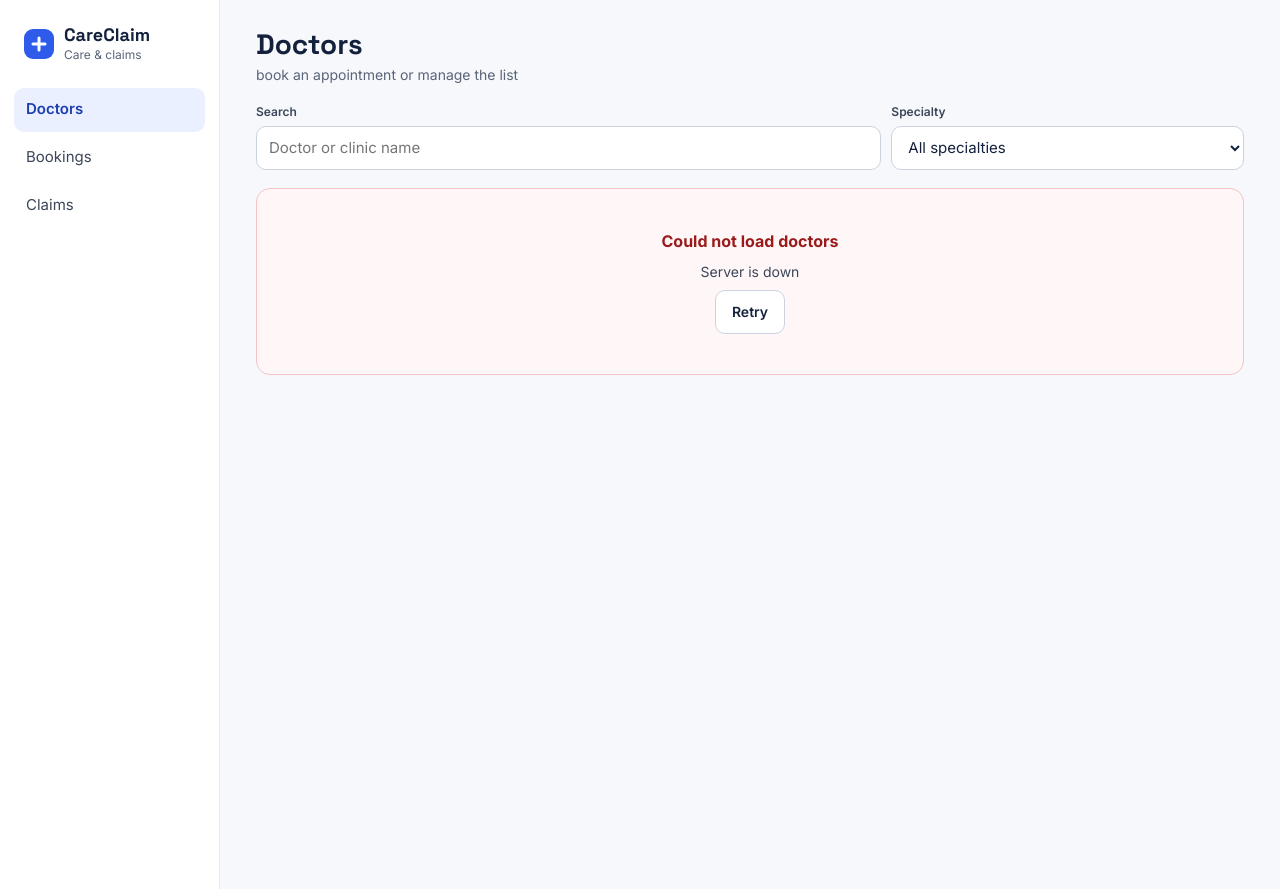
DoctorsPage › shows the error, then Retry loads the doctors
Check: the text "Could not load doctors" is shown, box [662,229,838,253]
Check: the text "Server is down" is shown, box [701,261,799,282]
Click the button "Retry": (750,312) [715,290,785,334]
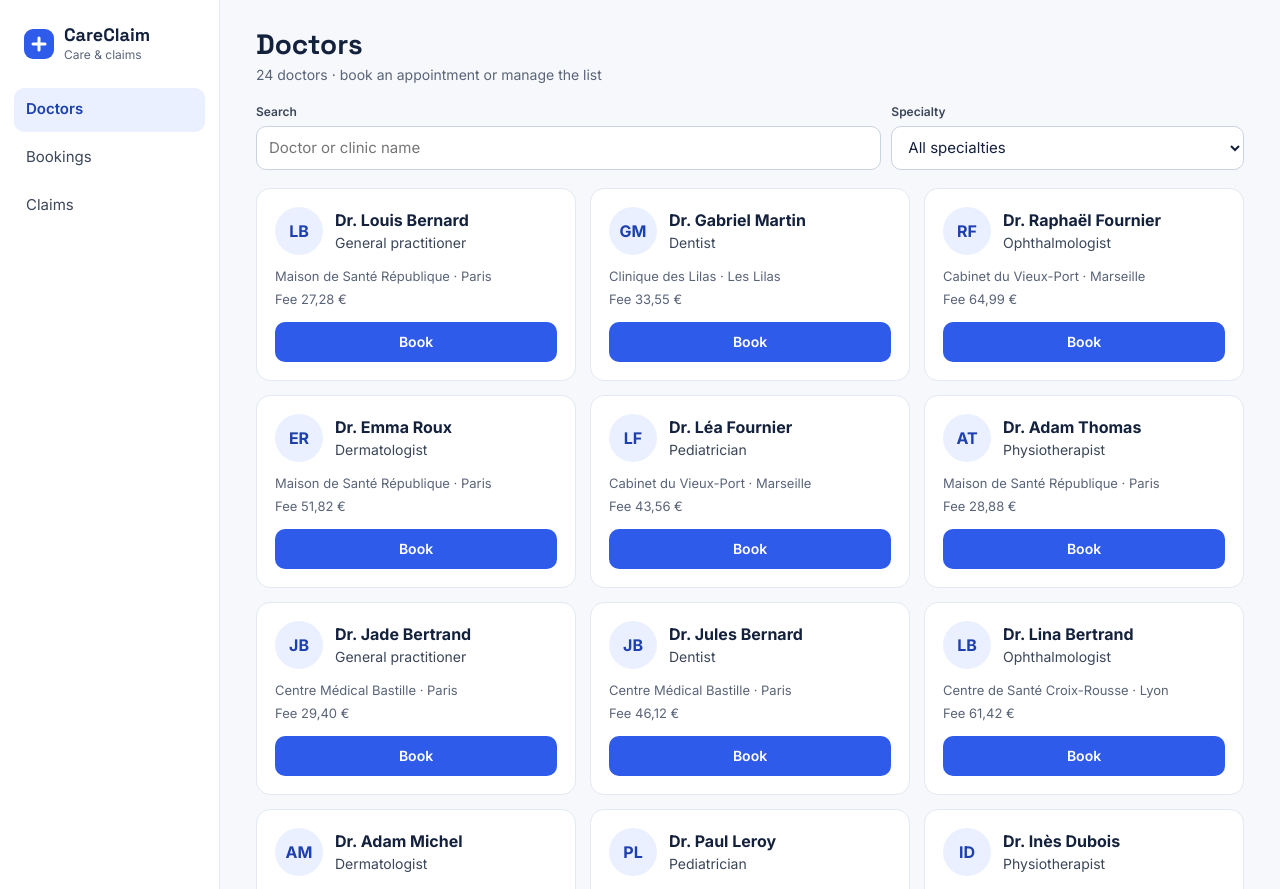
Check: the text "24 doctors · book an appointment or manage the list" is shown, box [256,64,602,85]
